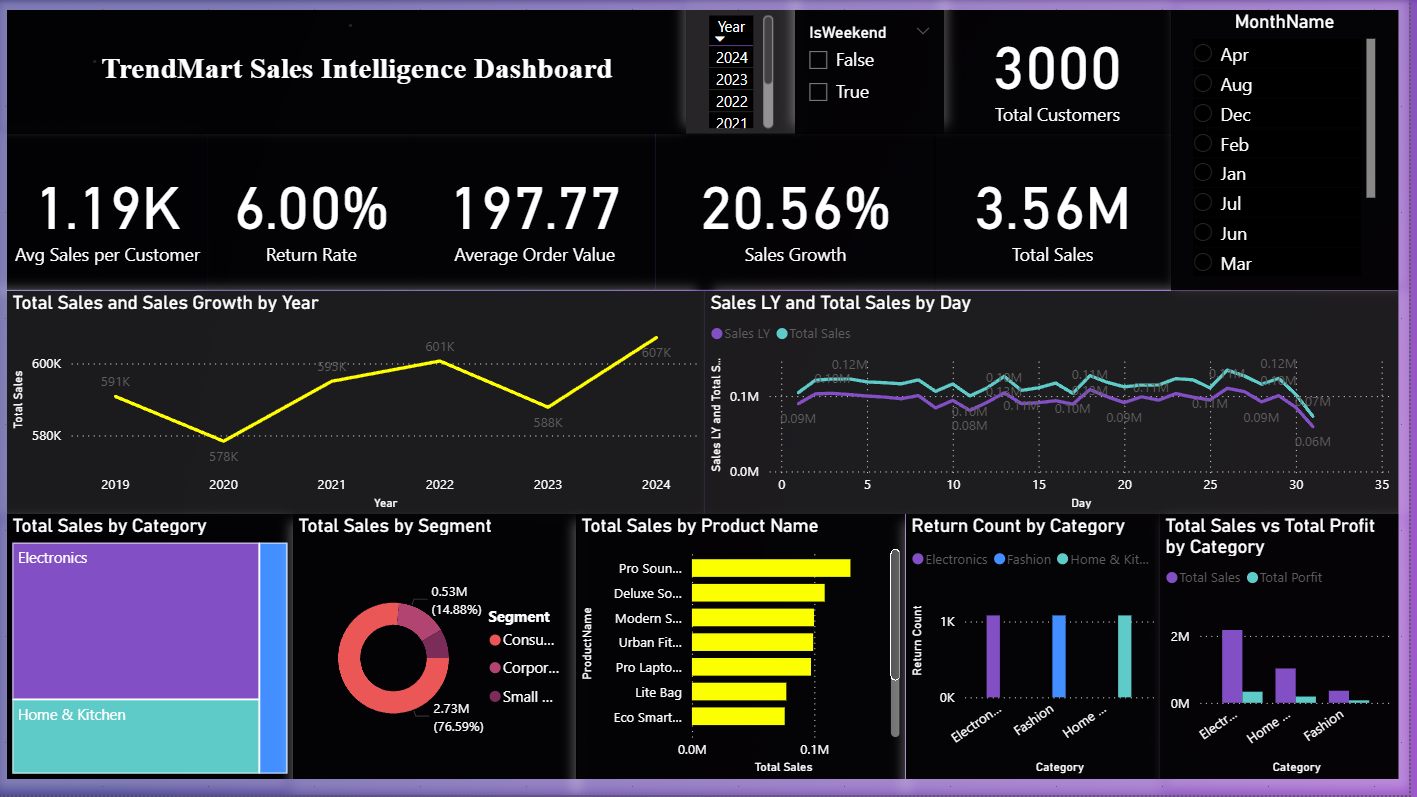

The dashboard page shown, as its layout file describes it:
{"tool":"powerbi","page":{"name":"Sales Intelligence","canvas":[1280,720],"ordinal":0},"visuals":[{"type":"card","fields":{"Values":["measures (2).Avg Sales per Customer"]},"box":[9.9,120.9,181.8,142.4],"z":0},{"type":"card","fields":{"Values":["measures (2).average order value"]},"box":[378.8,120.9,218.5,142.4],"z":1000},{"type":"card","fields":{"Values":["measures (2).return_rate"]},"box":[191.6,120.9,187.2,142.4],"z":2000},{"type":"card","fields":{"Values":["measures (2).Sales Growth"]},"box":[597.3,120.9,252.5,142.4],"z":3000},{"type":"card","fields":{"Values":["measures (2).total sales"]},"box":[849.9,120.9,214.9,142.4],"z":4000},{"type":"card","fields":{"Values":["measures (2).total customers"]},"box":[858.7,9.1,205.6,111.9],"z":5000},{"type":"lineChart","fields":{"Category":["calendar.Date.Variation.Date Hierarchy.Year","calendar.Date.Variation.Date Hierarchy.Quarter","calendar.Date.Variation.Date Hierarchy.Month","calendar.Date.Variation.Date Hierarchy.Day"],"Y":["measures (2).total sales"]},"box":[9.9,263.3,632.2,202.4],"z":6000},{"type":"lineChart","fields":{"Category":["calendar.Date.Variation.Date Hierarchy.Year","calendar.Date.Variation.Date Hierarchy.Quarter","calendar.Date.Variation.Date Hierarchy.Month","calendar.Date.Variation.Date Hierarchy.Day"],"Y":["measures (2).Sales LY","measures (2).Total Sales"]},"box":[642.1,263.3,627.8,202.4],"z":7000},{"type":"treemap","fields":{"Group":["products.Category","products.SubCategory"],"Values":["measures (2).total sales"]},"box":[9.9,465.7,258.8,240],"z":8000},{"type":"donutChart","fields":{"Category":["customers.Segment"],"Y":["measures (2).total sales"]},"box":[268.7,465.7,257,240],"z":9000},{"type":"barChart","title":"Total Sales by Product Name","fields":{"Category":["products.ProductName"],"Y":["measures (2).total sales"]},"box":[525.7,465.7,298.2,240],"z":10000},{"type":"clusteredColumnChart","title":"Return Count by Category","fields":{"Category":["products.Category"],"Y":["measures (2).return count"],"Series":["products.Category"]},"box":[823.9,465.7,230.1,240],"z":11000},{"type":"clusteredColumnChart","title":"Total Sales vs Total Profit by Category","fields":{"Category":["products.Category"],"Y":["measures (2).total sales","measures (2).total profit"]},"box":[1054,465.7,215.8,240],"z":12000},{"type":"textbox","box":[9.9,9,616.1,111.9],"z":13000},{"type":"tableEx","title":"Year","fields":{"Values":["calendar.Year"]},"box":[624.9,9.1,98.8,111.9],"z":14000},{"type":"listSlicer","fields":{"Values":["calendar.MonthName"]},"box":[1064.3,9.1,205.6,254],"z":15000},{"type":"slicer","fields":{"Values":["calendar.IsWeekend"]},"box":[723.7,9.1,135.1,111.9],"z":16000}]}

Visuals, with their boxes in screenshot pixels (x1, y1, x2, y2), scaled from the page's 1280x720 canvas onto the 1417x797 screenshot:
card - measures (2).Avg Sales per Customer: box(11, 134, 212, 291)
card - measures (2).average order value: box(419, 134, 661, 291)
card - measures (2).return_rate: box(212, 134, 419, 291)
card - measures (2).Sales Growth: box(661, 134, 941, 291)
card - measures (2).total sales: box(941, 134, 1179, 291)
card - measures (2).total customers: box(951, 10, 1178, 134)
lineChart - calendar.Date.Variation.Date Hierarchy.Year x calendar.Date.Variation.Date Hierarchy.Quarter: box(11, 291, 711, 516)
lineChart - calendar.Date.Variation.Date Hierarchy.Year x calendar.Date.Variation.Date Hierarchy.Quarter: box(711, 291, 1406, 516)
treemap - products.Category x products.SubCategory: box(11, 516, 297, 781)
donutChart - customers.Segment x measures (2).total sales: box(297, 516, 582, 781)
"Total Sales by Product Name" barChart: box(582, 516, 912, 781)
"Return Count by Category" clusteredColumnChart: box(912, 516, 1167, 781)
"Total Sales vs Total Profit by Category" clusteredColumnChart: box(1167, 516, 1406, 781)
textbox: box(11, 10, 693, 134)
"Year" tableEx: box(692, 10, 801, 134)
listSlicer - calendar.MonthName: box(1178, 10, 1406, 291)
slicer - calendar.IsWeekend: box(801, 10, 951, 134)
